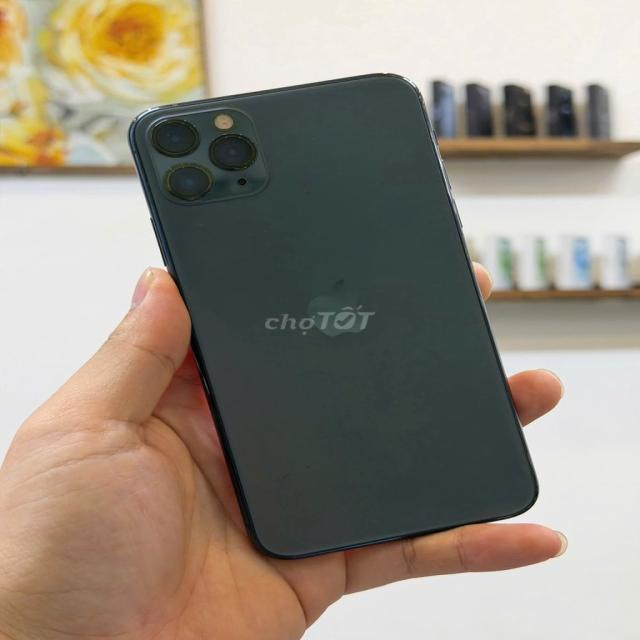scratch: (162, 158, 212, 176), (165, 113, 203, 135), (292, 181, 321, 208), (421, 149, 457, 169), (376, 65, 408, 87), (407, 84, 427, 114), (234, 153, 260, 173), (225, 127, 255, 141), (162, 97, 190, 112), (154, 180, 180, 196)
